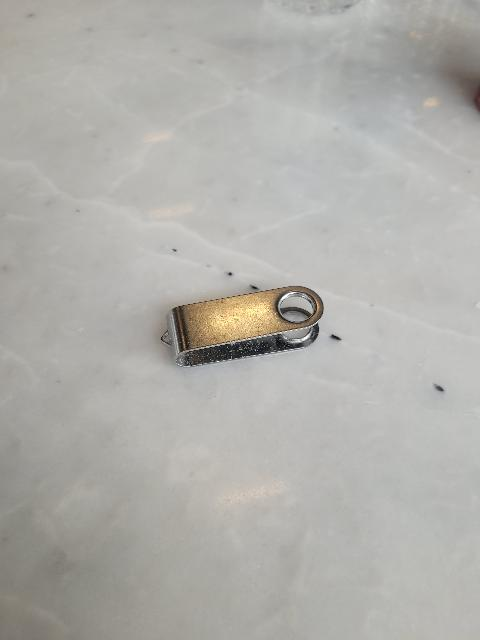Metal: (144, 281, 338, 384)
